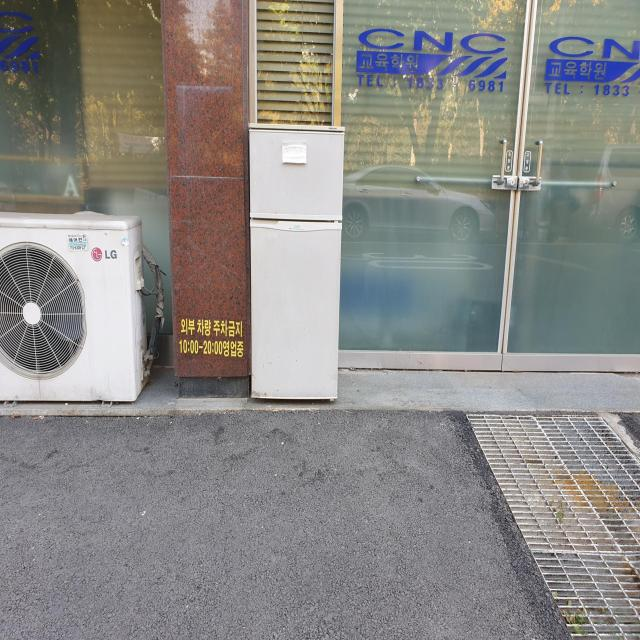refrigerator: (247, 120, 347, 402)
